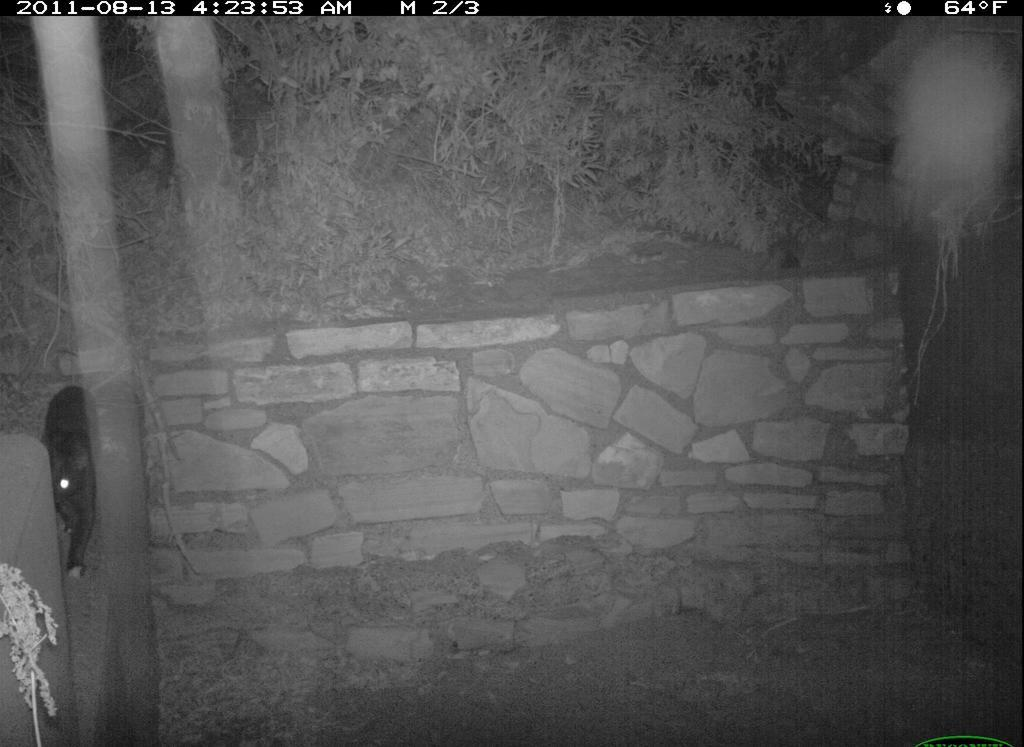cat: (33, 368, 113, 594)
